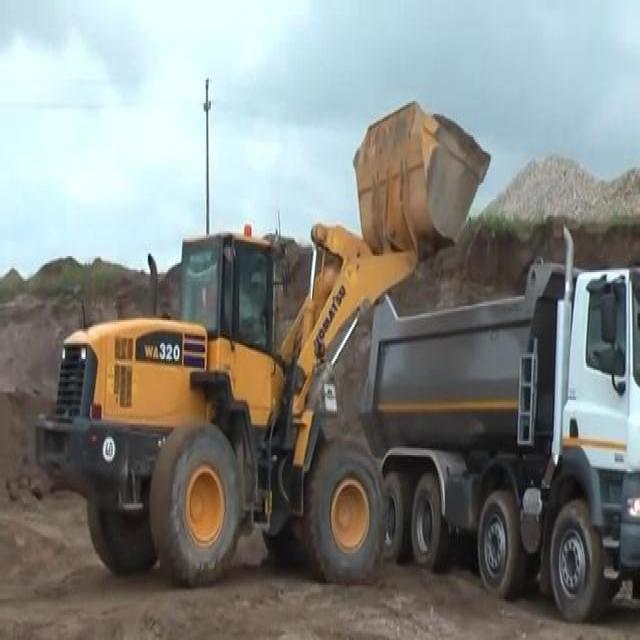Dump Truck: (356, 222, 638, 624)
Loader: (34, 98, 491, 583)
